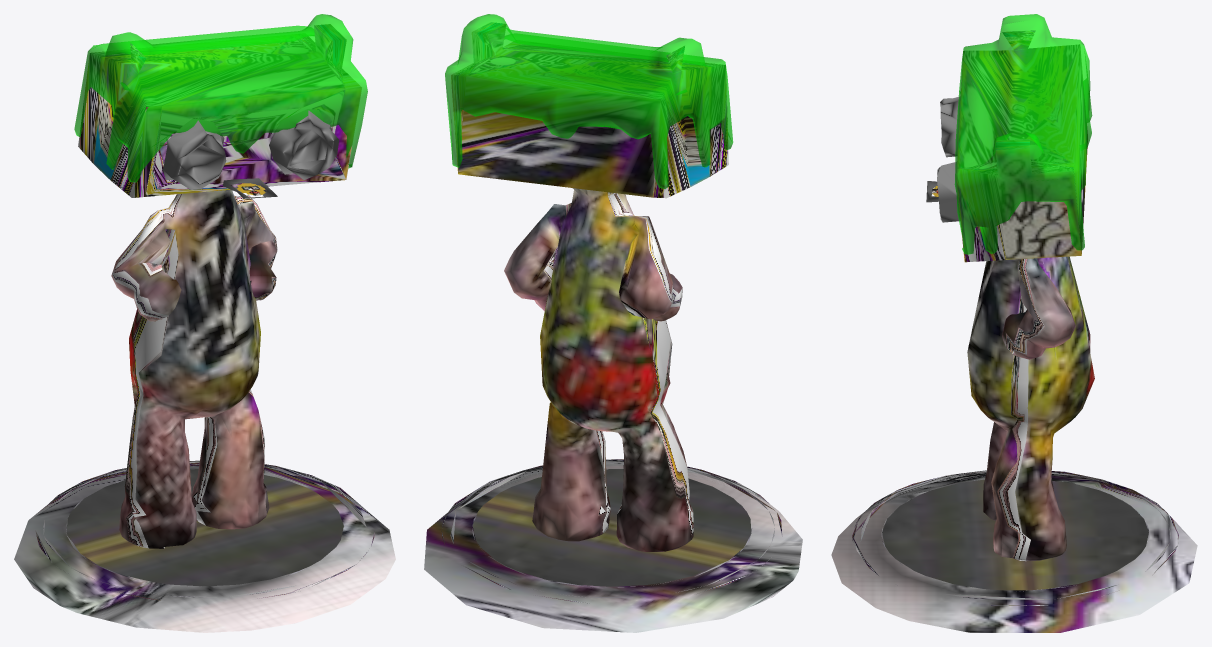
3 renders of one model, left to right at view 1: azimuth 30°, elevation 25°; view 2: azimuth 150°, elevation 25°; view 3: azimuth 270°, elevation 25°, orthographic. The views are drawn at different scales.
Bounding box in the file's own units: 1.42 × 2.2 × 1.44.
Materials: 9 (5 with a texture image).
